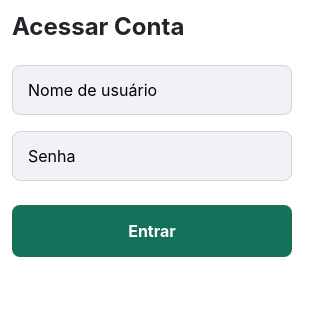
Test: login › valida os campos obrigatórios antes de chamar a API
Click the text "Entrar" at point(152, 231), box [128,221,176,241]
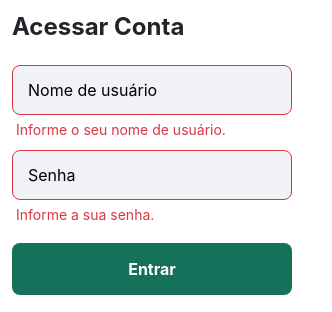
Expected: the text "Informe o seu nome de usuário." is shown, [16,121,226,138]
Expected: the text "Informe a sua senha." is shown, [16,206,154,223]
